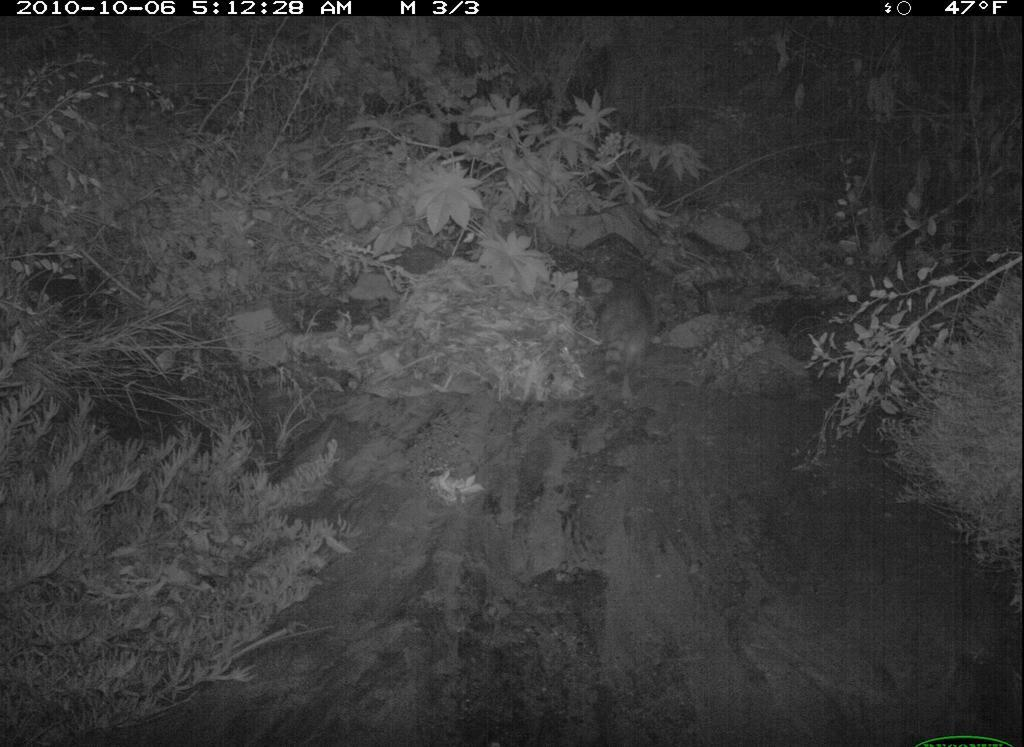raccoon: (589, 268, 656, 399)
